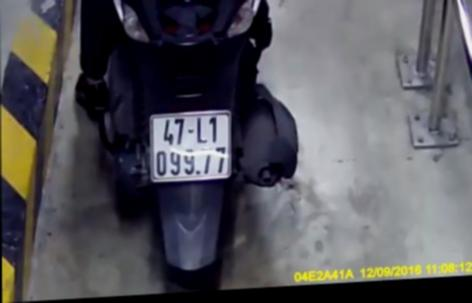License_Plate: (138, 101, 245, 189)
